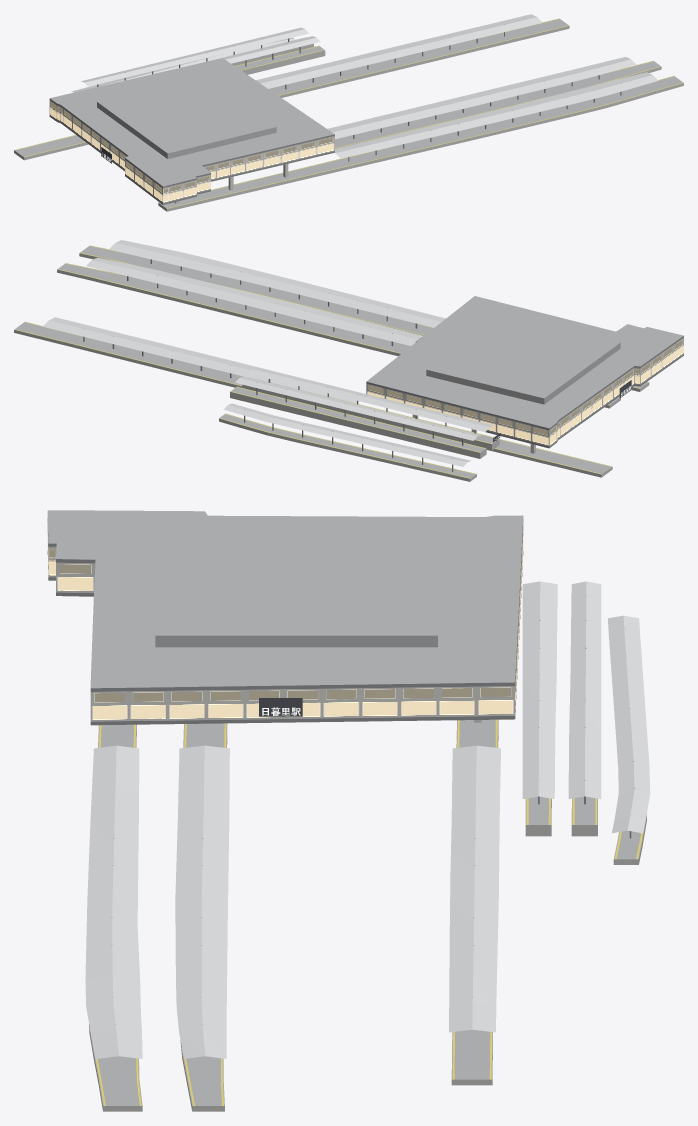
The model's file is nippori_station.glb.
3 views of the same model, one above another, from view 1: azimuth 30°, elevation 25°; view 2: azimuth 150°, elevation 25°; view 3: azimuth 270°, elevation 25° (orthographic). The views are drawn at different scales.
Visible parts, largest first — view 1: NP_Station; view 2: NP_Station; view 3: NP_Station.
Boxes of the visible parts, <box> form: NP_Station: <box>14,14,683,211</box>; NP_Station: <box>14,240,683,481</box>; NP_Station: <box>47,510,650,1111</box>.
Bounding box in the file's own units: 210 × 16 × 95.9.
Materials: 10 (1 with a texture image).
